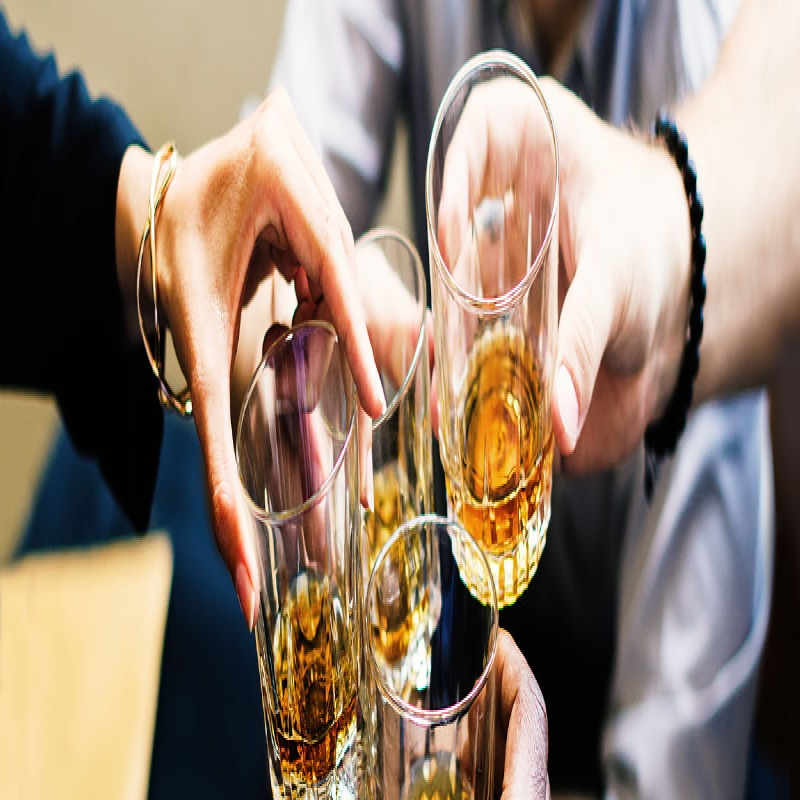whiskey: (430, 61, 580, 608), (232, 322, 369, 799)
